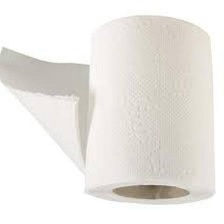tissue: (0, 9, 222, 211)
